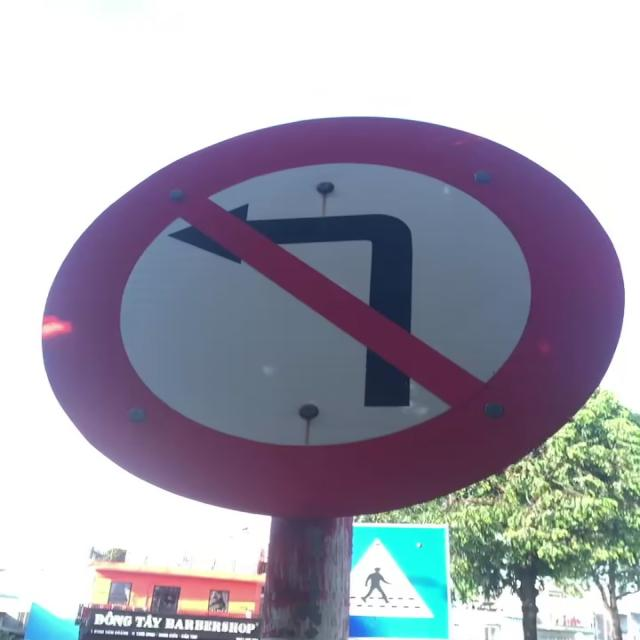Cam_Re_Trai: (58, 110, 623, 523)
